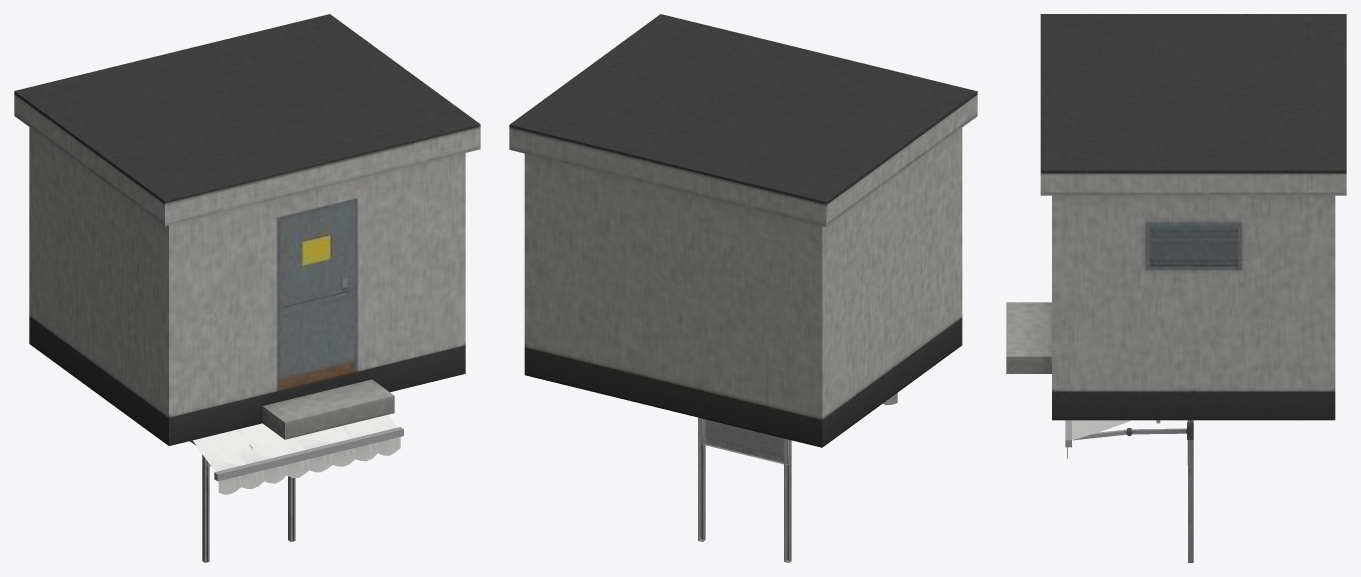
File: kit_facade.glb
3 renders of one model, left to right at view 1: azimuth 30°, elevation 25°; view 2: azimuth 150°, elevation 25°; view 3: azimuth 270°, elevation 25°, orthographic.
Parts seen in each view (by area): view 1: liftroom, awning, awningFrame, shutterBox; view 2: liftroom, shutterPanel, shutterBox; view 3: liftroom, awningFrame, shutterBox, awning.
Boxes of the visible parts, x1,y1,x2,y2 form: liftroom: (14,14,480,445); awning: (193,414,400,494); awningFrame: (190,427,403,481); shutterBox: (202,454,295,562); liftroom: (509,14,977,447); shutterPanel: (702,418,788,465); shutterBox: (698,417,791,562); liftroom: (1006,14,1346,420); awningFrame: (1065,420,1193,447); shutterBox: (1188,420,1193,562); awning: (1067,420,1130,458).
Bounding box in the file's own units: 3.46 × 4.63 × 3.18.
Materials: 1 (1 with a texture image).
